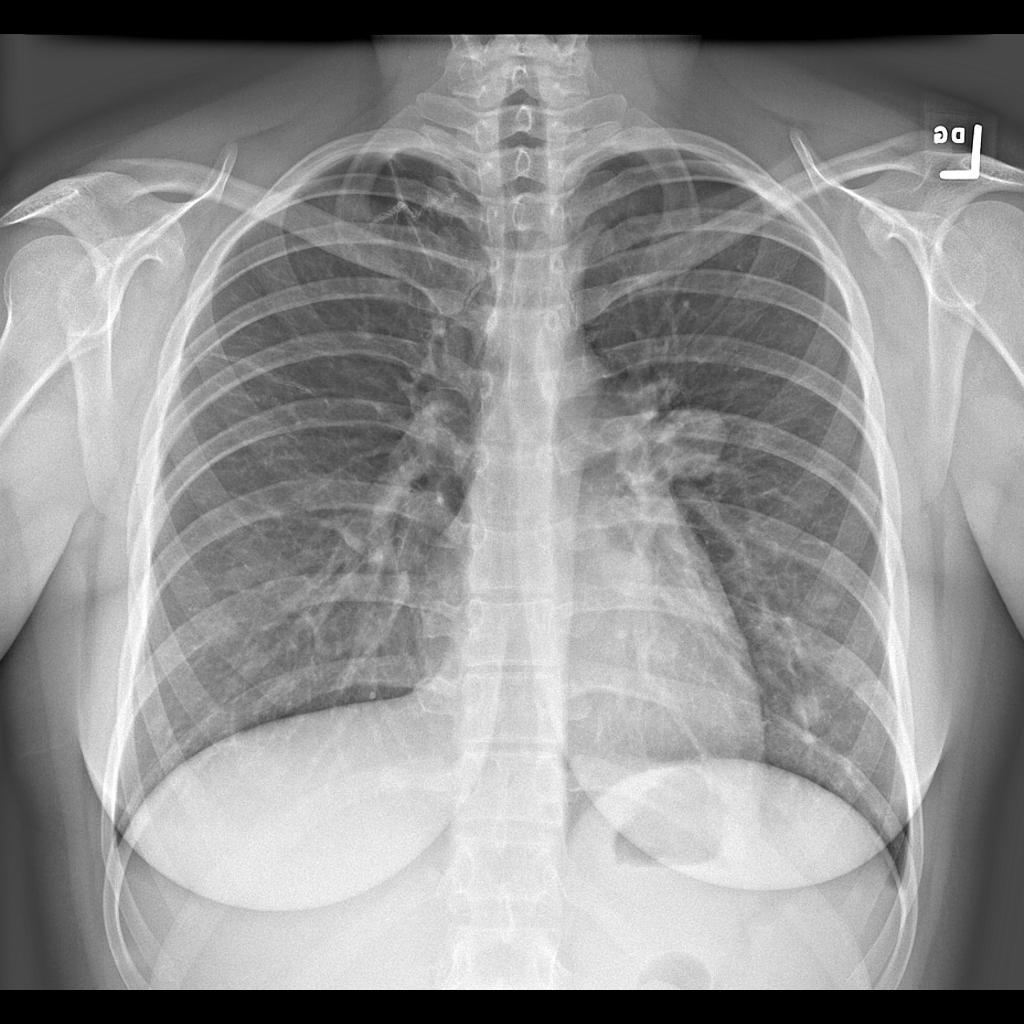Nodule: (654, 402, 741, 483), (790, 689, 832, 734)
